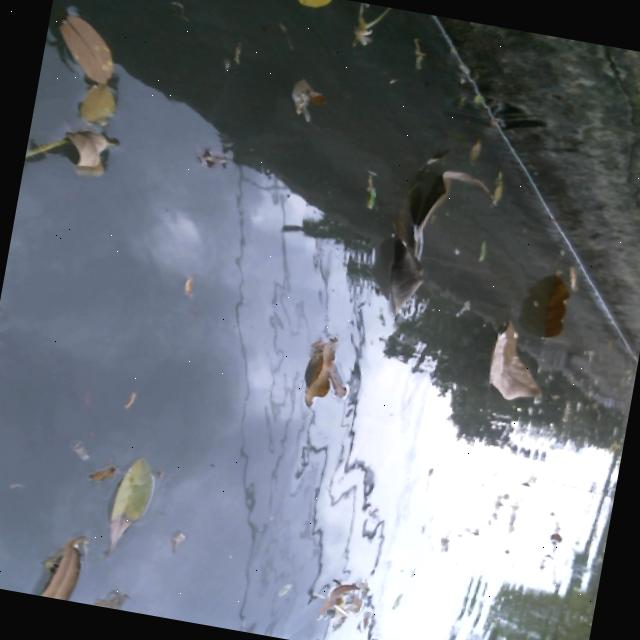Big-leaf: (373, 156, 478, 323), (463, 317, 559, 432), (286, 321, 354, 431), (521, 259, 575, 338)
Small-leaf: (45, 0, 134, 78), (101, 454, 161, 558), (259, 71, 328, 146), (35, 522, 93, 603), (311, 558, 366, 629), (64, 132, 124, 186), (78, 74, 131, 131), (399, 21, 447, 72), (348, 164, 384, 212), (480, 166, 515, 215), (460, 230, 488, 274), (443, 281, 472, 322), (275, 0, 343, 14), (559, 258, 586, 293), (465, 131, 485, 163)
